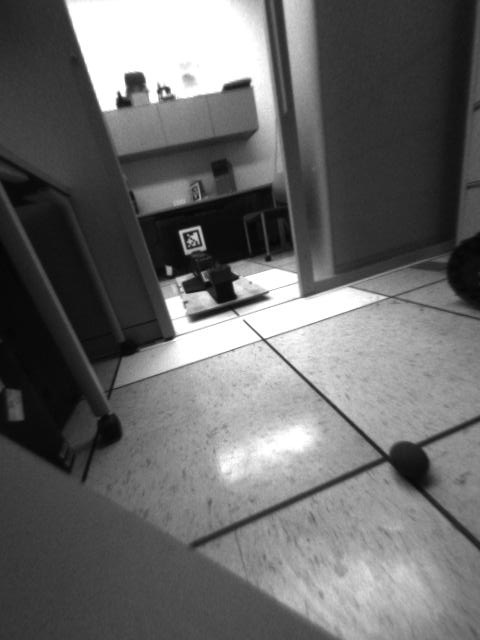dogtoy: (375, 433, 451, 495)
